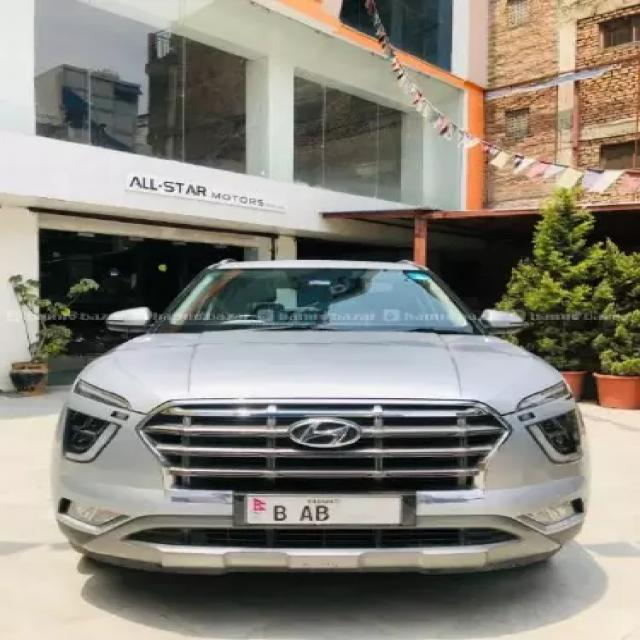License-plate: (227, 494, 412, 528)
